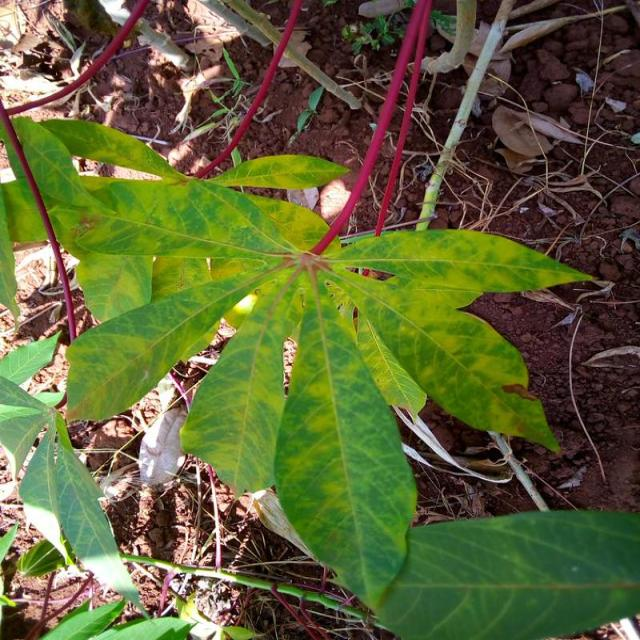cassava leaf: (2, 109, 631, 634), (272, 278, 418, 612)
